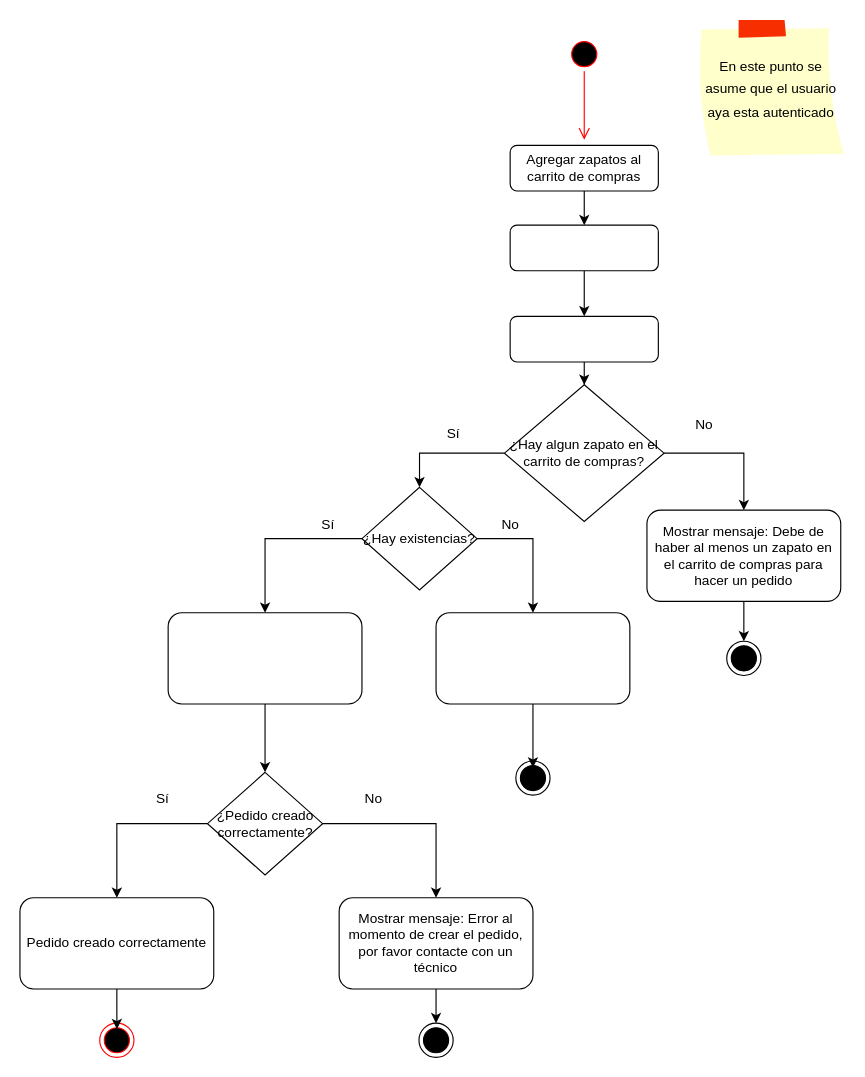
Some shapes in this 865 by 1077 pixel diagram are drawn without their labels. Each missing label, with the box of its shape:
Acceder a la pantalla de carrito compras: (509, 224, 658, 271)
Intentar crear pedido y guardar en la base de datos: (167, 612, 362, 704)
Mostrar mensaje: Oh Vaya! Parace que ya no queda existencia de ese zapato: (435, 612, 630, 704)
Realizar pedido: (509, 315, 658, 362)
